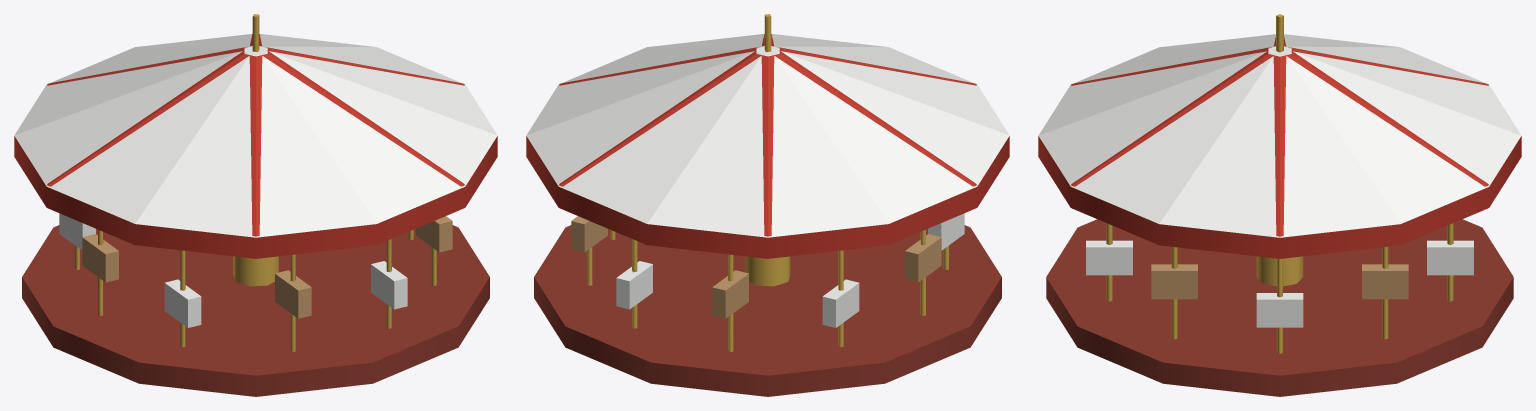
File: carrousel.glb
3 views of the same model, side by side, from view 1: azimuth 30°, elevation 25°; view 2: azimuth 150°, elevation 25°; view 3: azimuth 270°, elevation 25° (orthographic).
Visible parts, largest first — view 1: carrousel; view 2: carrousel; view 3: carrousel.
Boxes of the visible parts, bbox=[...] form: carrousel: bbox=[14, 14, 497, 396]; carrousel: bbox=[526, 14, 1009, 396]; carrousel: bbox=[1038, 14, 1521, 396].
Size of the model in its own units: 12.4 by 8 by 12.4.
Materials: 1 (1 with a texture image).
